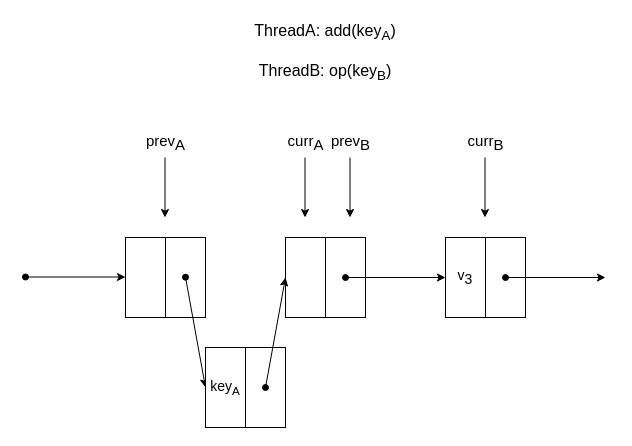
This 632x446 diagram has some shape labels left out. The box of each missing label's shape, as (x1, y1, x2, y2) in pixels:
v 1: (124, 236, 206, 318)
v 2: (284, 236, 366, 318)
